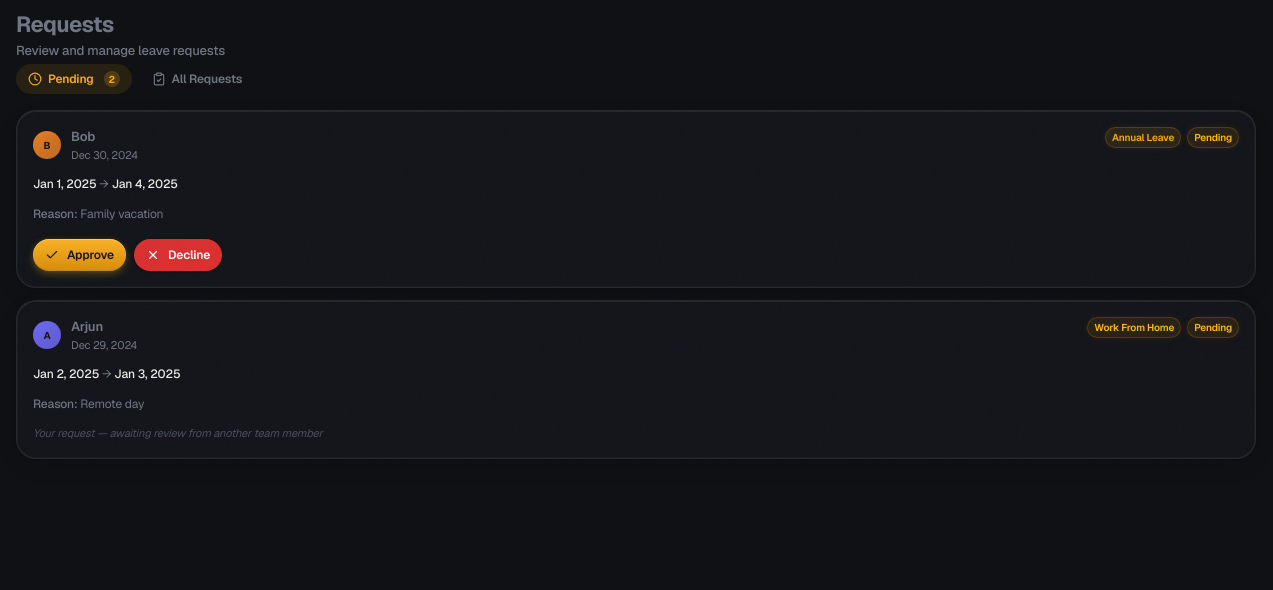
Scenario: RequestsScreen › shows error message when decline fails
Click the button "Decline".
click(178, 255)  # box [134, 239, 222, 271]
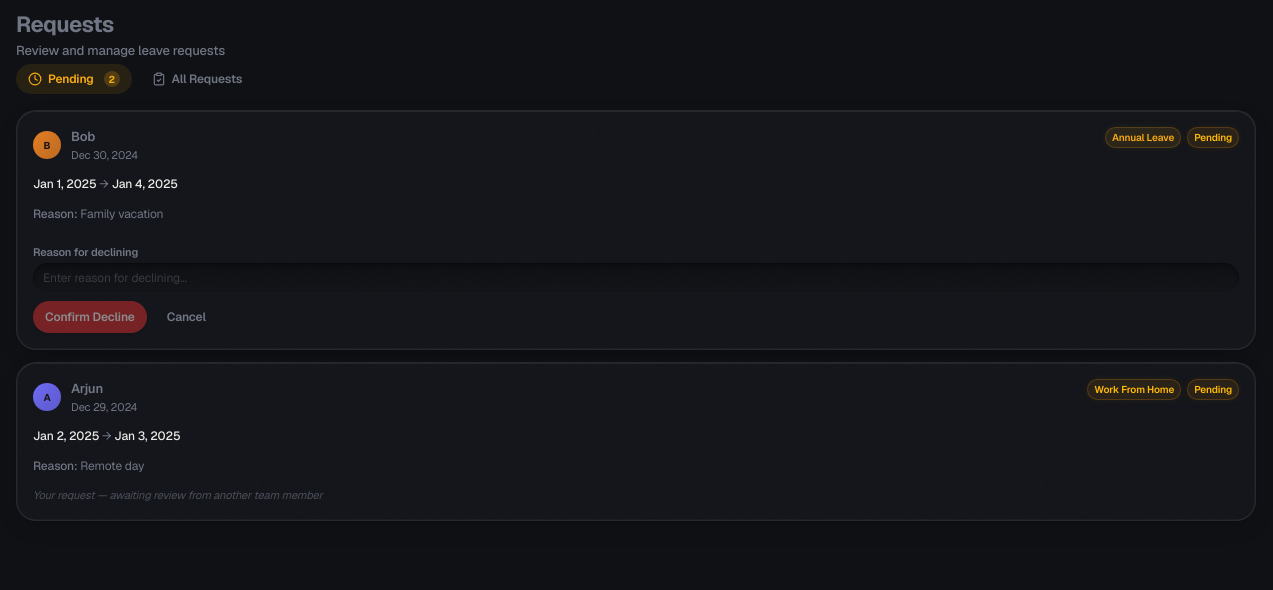
Type "Some reason" into the field named "Decline reason".
click(636, 278); type("Some reason")  # box [33, 263, 1239, 293]
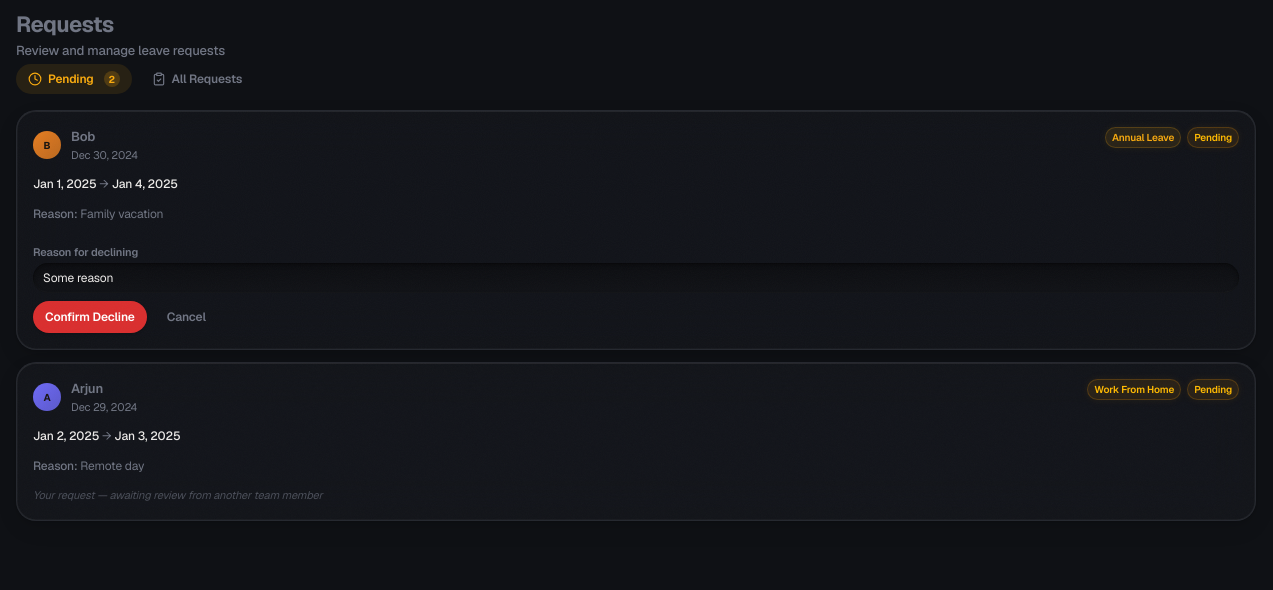
Click the button "Confirm Decline".
click(90, 317)  # box [33, 301, 147, 333]
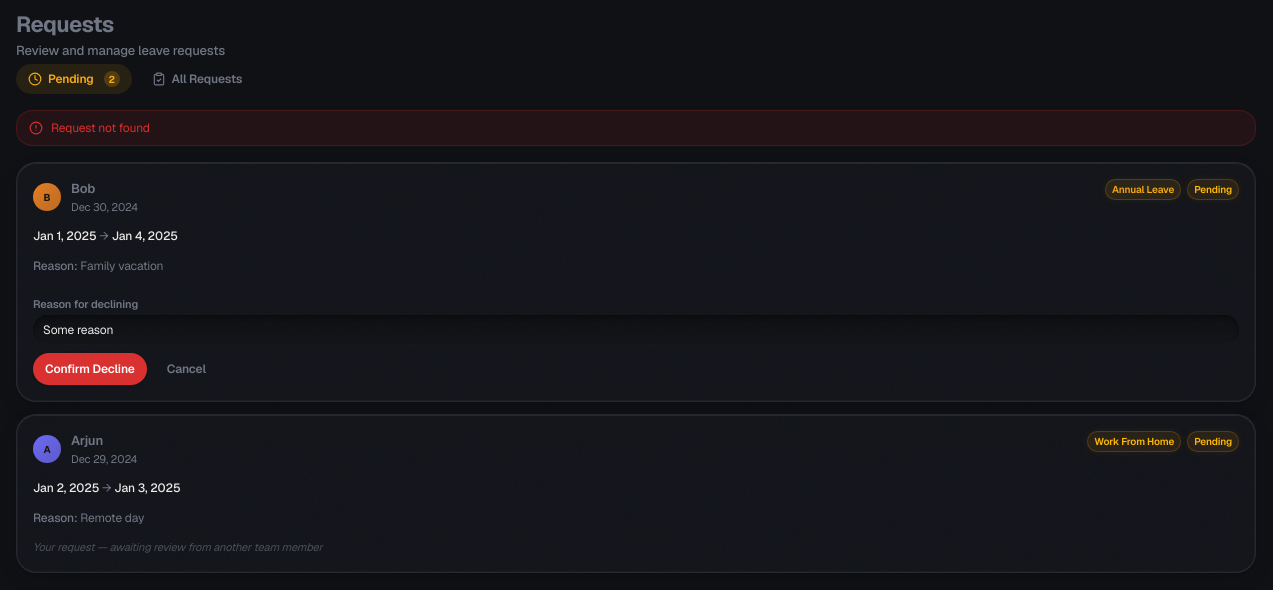
expect the text "Request not found" is shown: met, box [16, 110, 1256, 146]
